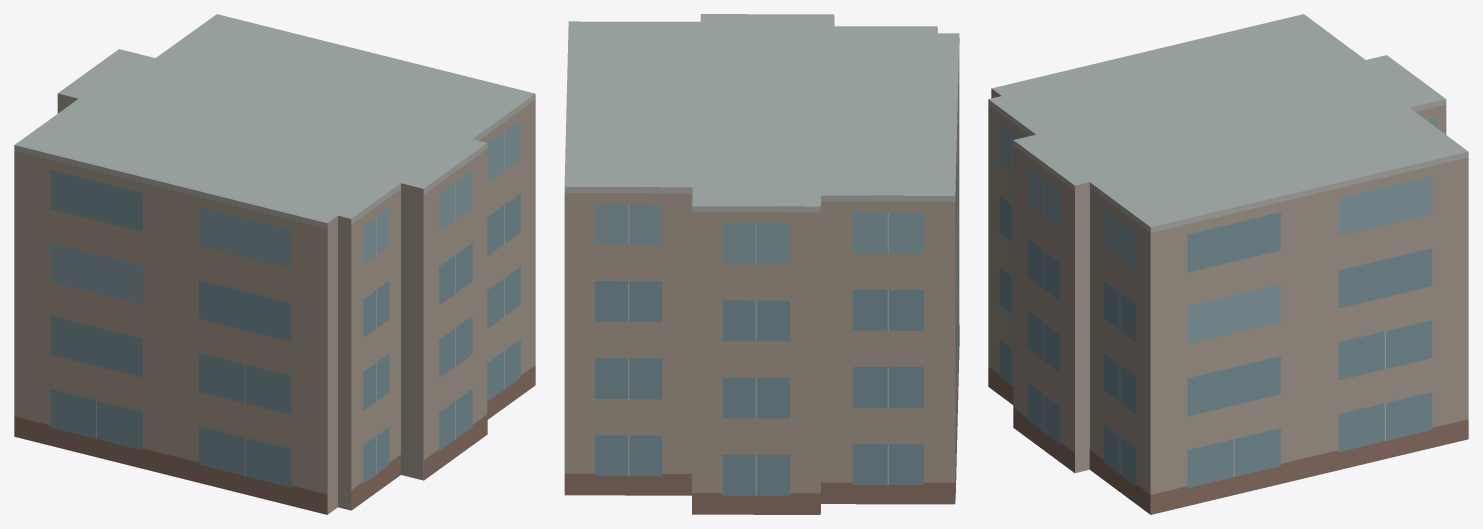
The model's file is survey-upis-32780517.glb.
The picture shows the model from 3 angles, left to right: view 1: azimuth 30°, elevation 25°; view 2: azimuth 150°, elevation 25°; view 3: azimuth 270°, elevation 25°; orthographic projection. The views are drawn at different scales.
Visible parts, largest first — view 1: survey-upis-32780517.tmp; view 2: survey-upis-32780517.tmp; view 3: survey-upis-32780517.tmp.
Boxes of the visible parts, <box> form: survey-upis-32780517.tmp: <box>14,14,535,514</box>; survey-upis-32780517.tmp: <box>564,14,959,514</box>; survey-upis-32780517.tmp: <box>988,14,1468,514</box>.
Bounding box in the file's own units: 19.74 × 12.4 × 18.78.
